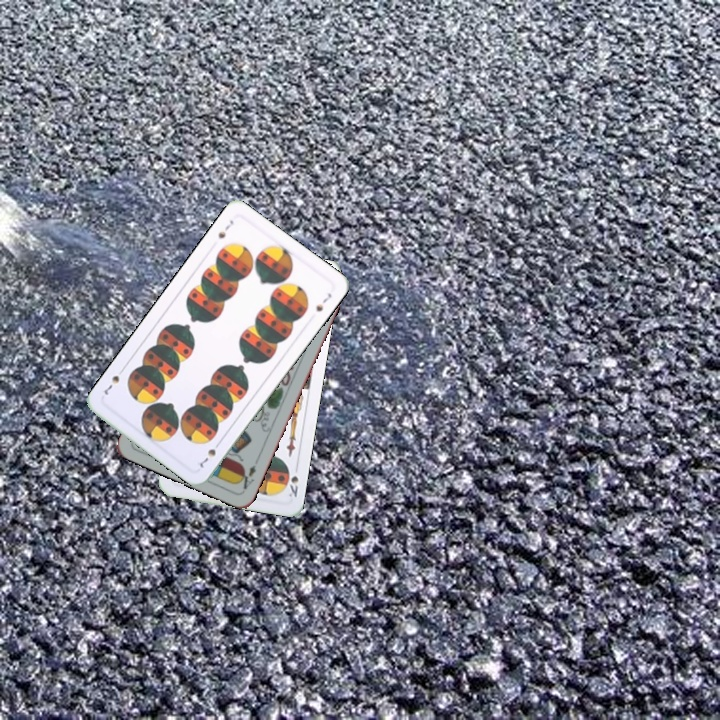EA: (235, 461, 258, 492)
S7: (196, 437, 224, 470), (214, 216, 236, 241)
SK: (282, 464, 301, 500)
